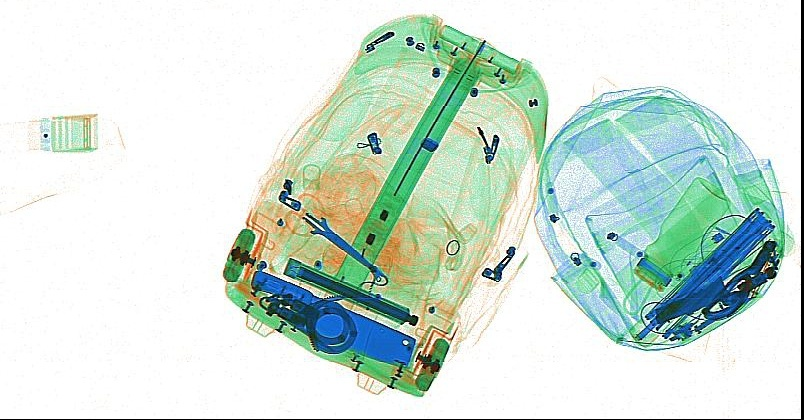handcuffs: (701, 239, 779, 320), (258, 291, 356, 353)
knife: (250, 269, 414, 369), (654, 274, 730, 322)
scissors: (284, 192, 378, 272)
